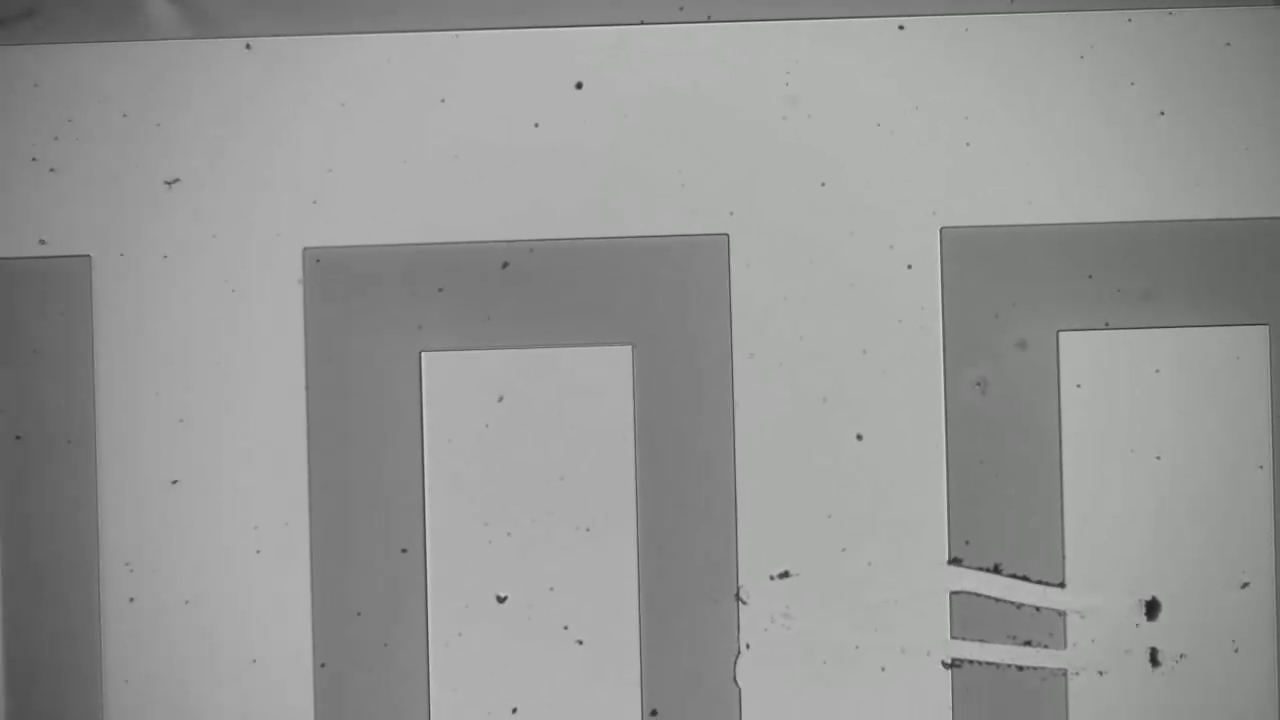Short_circuit: (919, 534, 1091, 627), (926, 615, 1102, 686)
